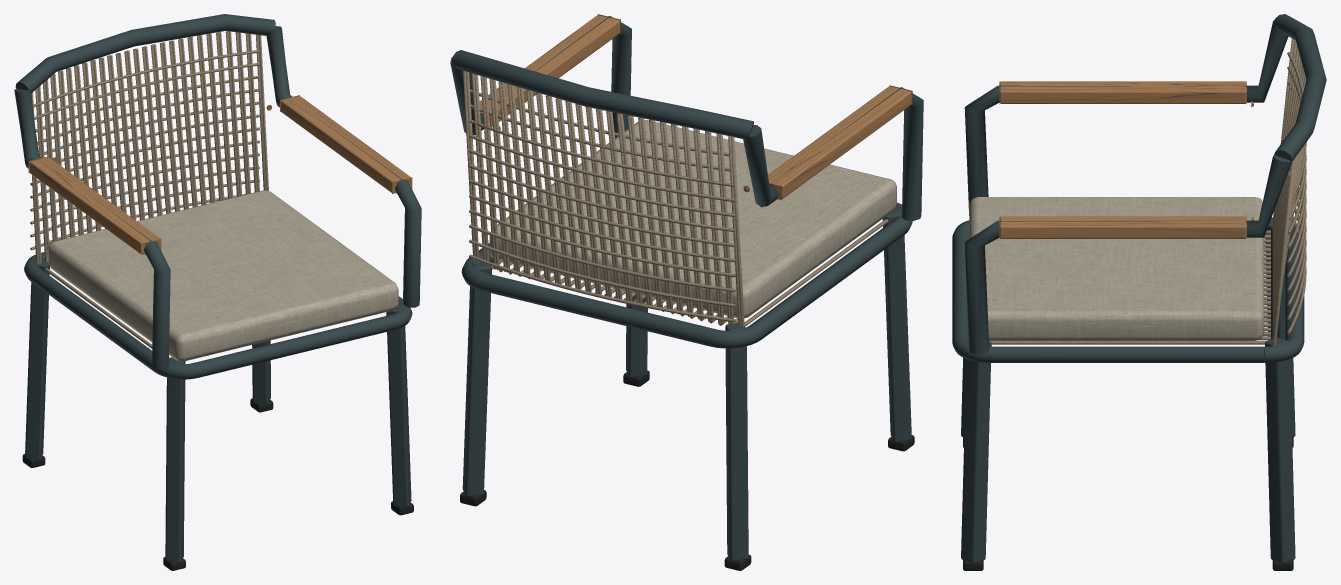
File: outdoor-rope-dining-chair.glb
3 renders of one model, left to right at view 1: azimuth 30°, elevation 25°; view 2: azimuth 150°, elevation 25°; view 3: azimuth 270°, elevation 25°, orthographic. The views are drawn at different scales.
Parts seen in each view (by area): view 1: catalog_surface_UVMap, catalog_surface_RealismUV; view 2: catalog_surface_UVMap, catalog_surface_RealismUV; view 3: catalog_surface_UVMap, catalog_surface_RealismUV.
Part boxes in pixels (box(x1,y1,x2,y2)): catalog_surface_UVMap: box(28, 31, 412, 361); catalog_surface_RealismUV: box(14, 14, 421, 570); catalog_surface_UVMap: box(463, 14, 912, 326); catalog_surface_RealismUV: box(450, 16, 923, 570); catalog_surface_UVMap: box(969, 38, 1306, 346); catalog_surface_RealismUV: box(952, 14, 1326, 570).
Size of the model in its own units: 0.59 by 0.82 by 0.64.
7 materials, 4 textured.
